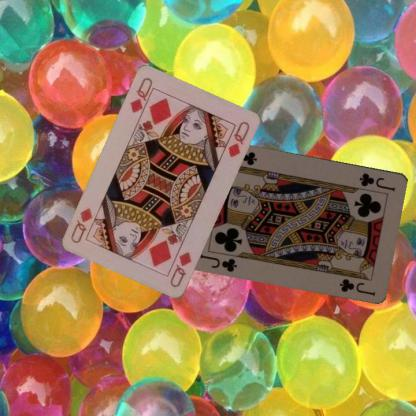Jc: (357, 170, 397, 192), (198, 251, 238, 273)
Qd: (128, 75, 156, 121), (167, 249, 193, 289)
